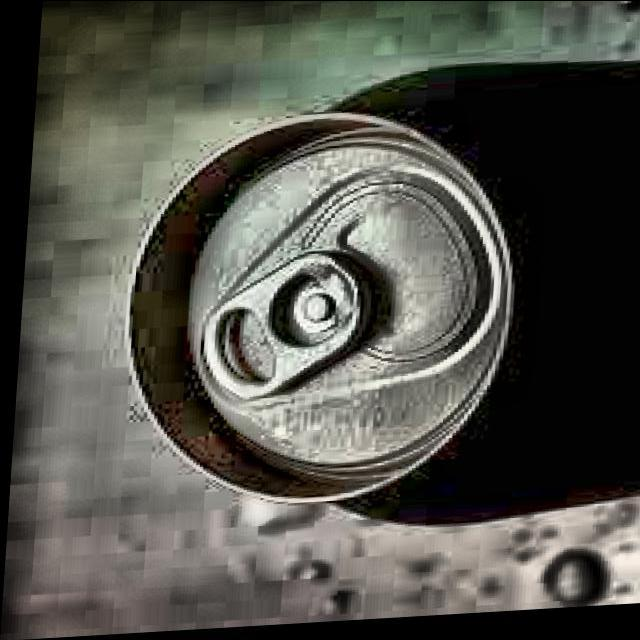litter: (99, 48, 640, 555)
